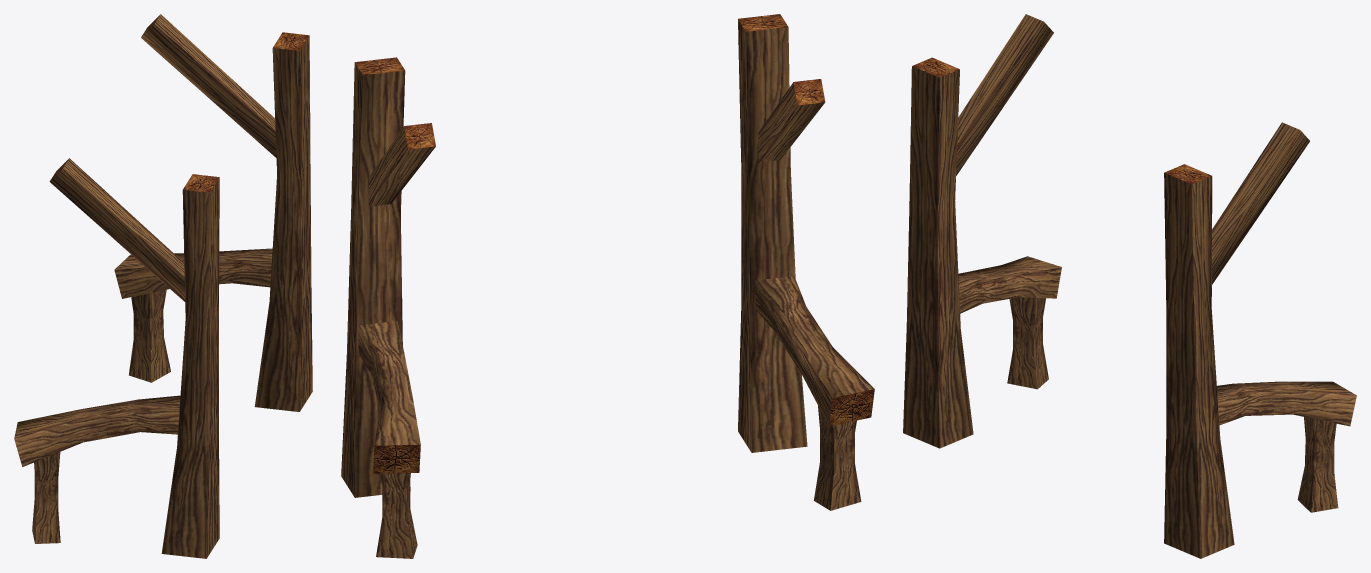
Rendered from LAKETOWN_EXTERIOR_PS_LT_TOWNHALL_BEAMS__GX.fbx.
3 renders of one model, left to right at view 1: azimuth 30°, elevation 25°; view 2: azimuth 150°, elevation 25°; view 3: azimuth 270°, elevation 25°, orthographic. The views are drawn at different scales.
Parts seen in each view (by area): view 1: LAKETOWN_EXTERIOR_PS_LT_TOWNHALL_BEAMS__GX; view 2: LAKETOWN_EXTERIOR_PS_LT_TOWNHALL_BEAMS__GX; view 3: LAKETOWN_EXTERIOR_PS_LT_TOWNHALL_BEAMS__GX.
Part boxes in pixels (x1,y1,x2,y2): LAKETOWN_EXTERIOR_PS_LT_TOWNHALL_BEAMS__GX: [14, 14, 312, 558]; LAKETOWN_EXTERIOR_PS_LT_TOWNHALL_BEAMS__GX: [341, 14, 874, 558]; LAKETOWN_EXTERIOR_PS_LT_TOWNHALL_BEAMS__GX: [903, 14, 1356, 558].
Size of the model in its own units: 35250 by 32307 by 35250.
3 materials, 3 textured.
